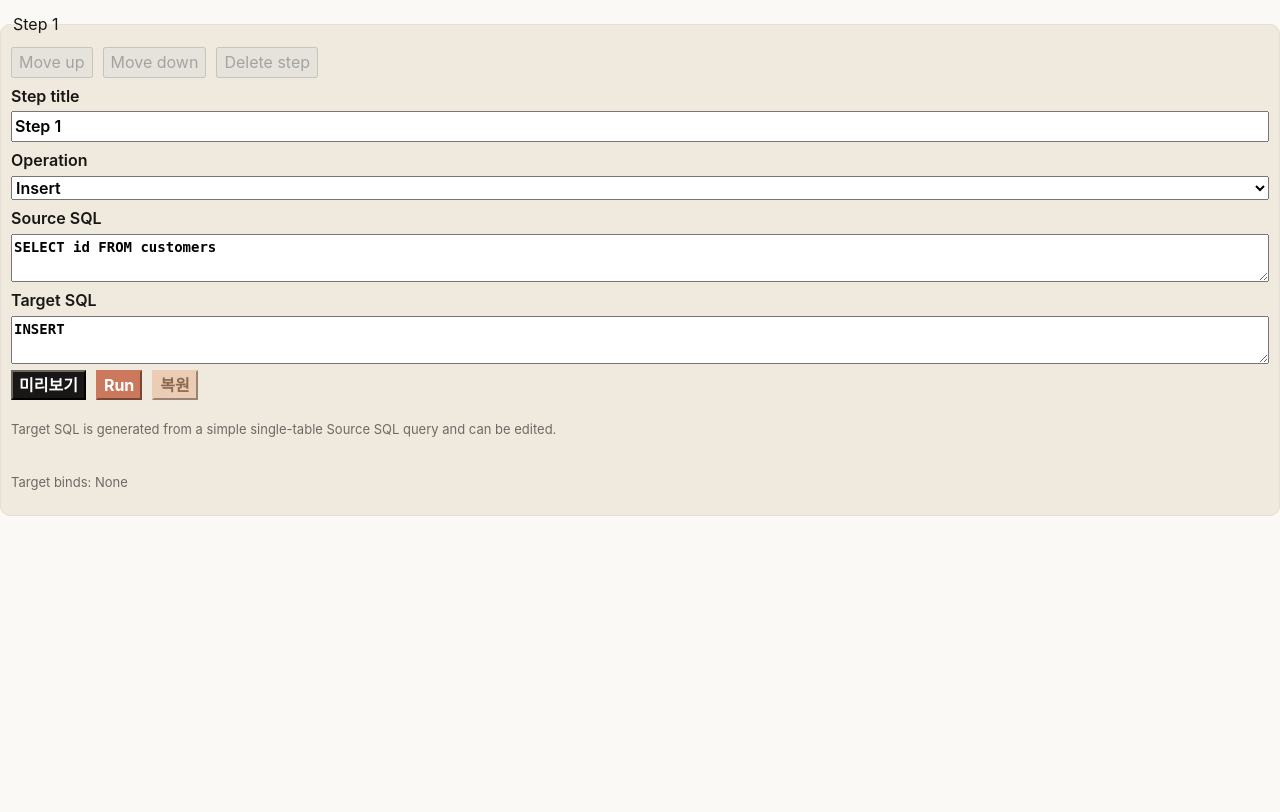
it: shows a preview query error code with its safe message
Click the button "미리보기" at (48, 385), box [11,370,86,400]
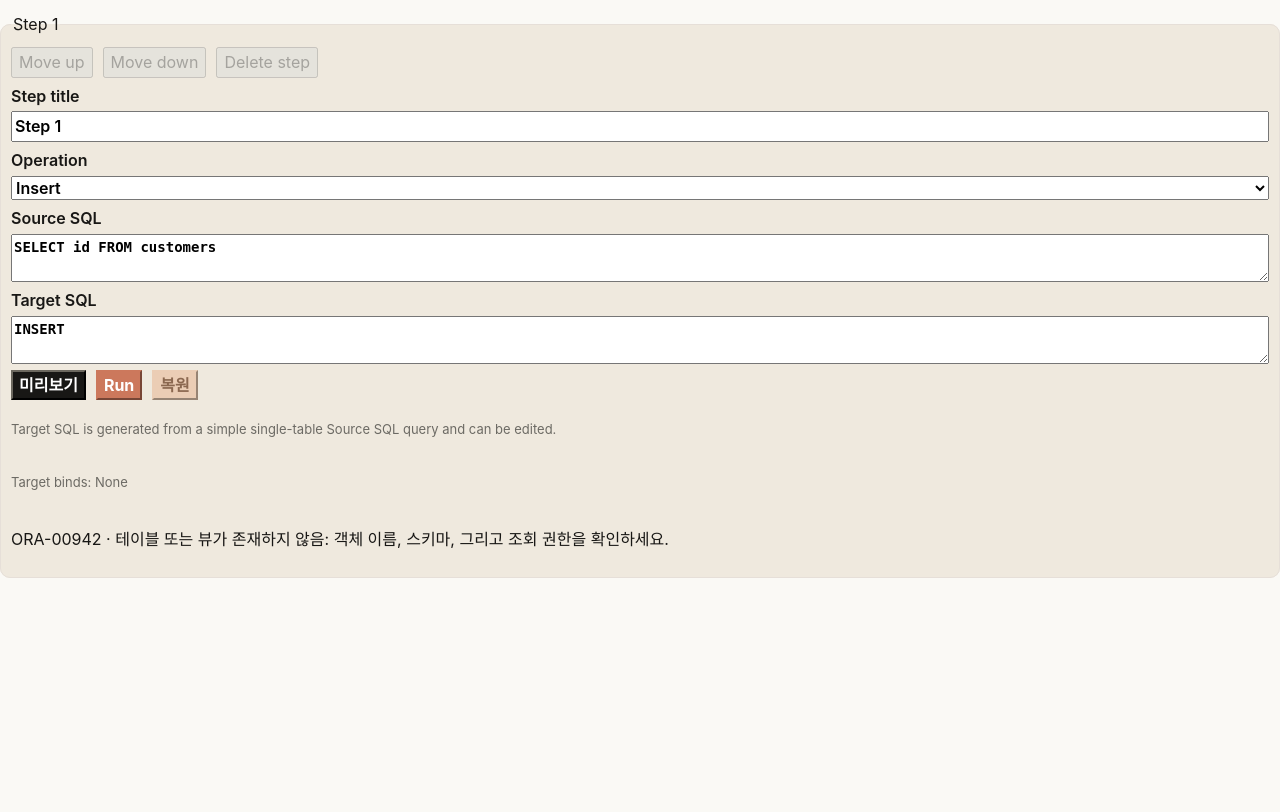
Expected: the message does not show "SELECT password", [11,529,669,549]
Expected: the text with test id "preview-error-code" reads "ORA-00942", [11,529,102,549]
Expected: the text "테이블 또는 뷰가 존재하지 않음: 객체 이름, 스키마, 그리고 조회 권한을 확인하세요." is not empty, [115,529,669,549]
